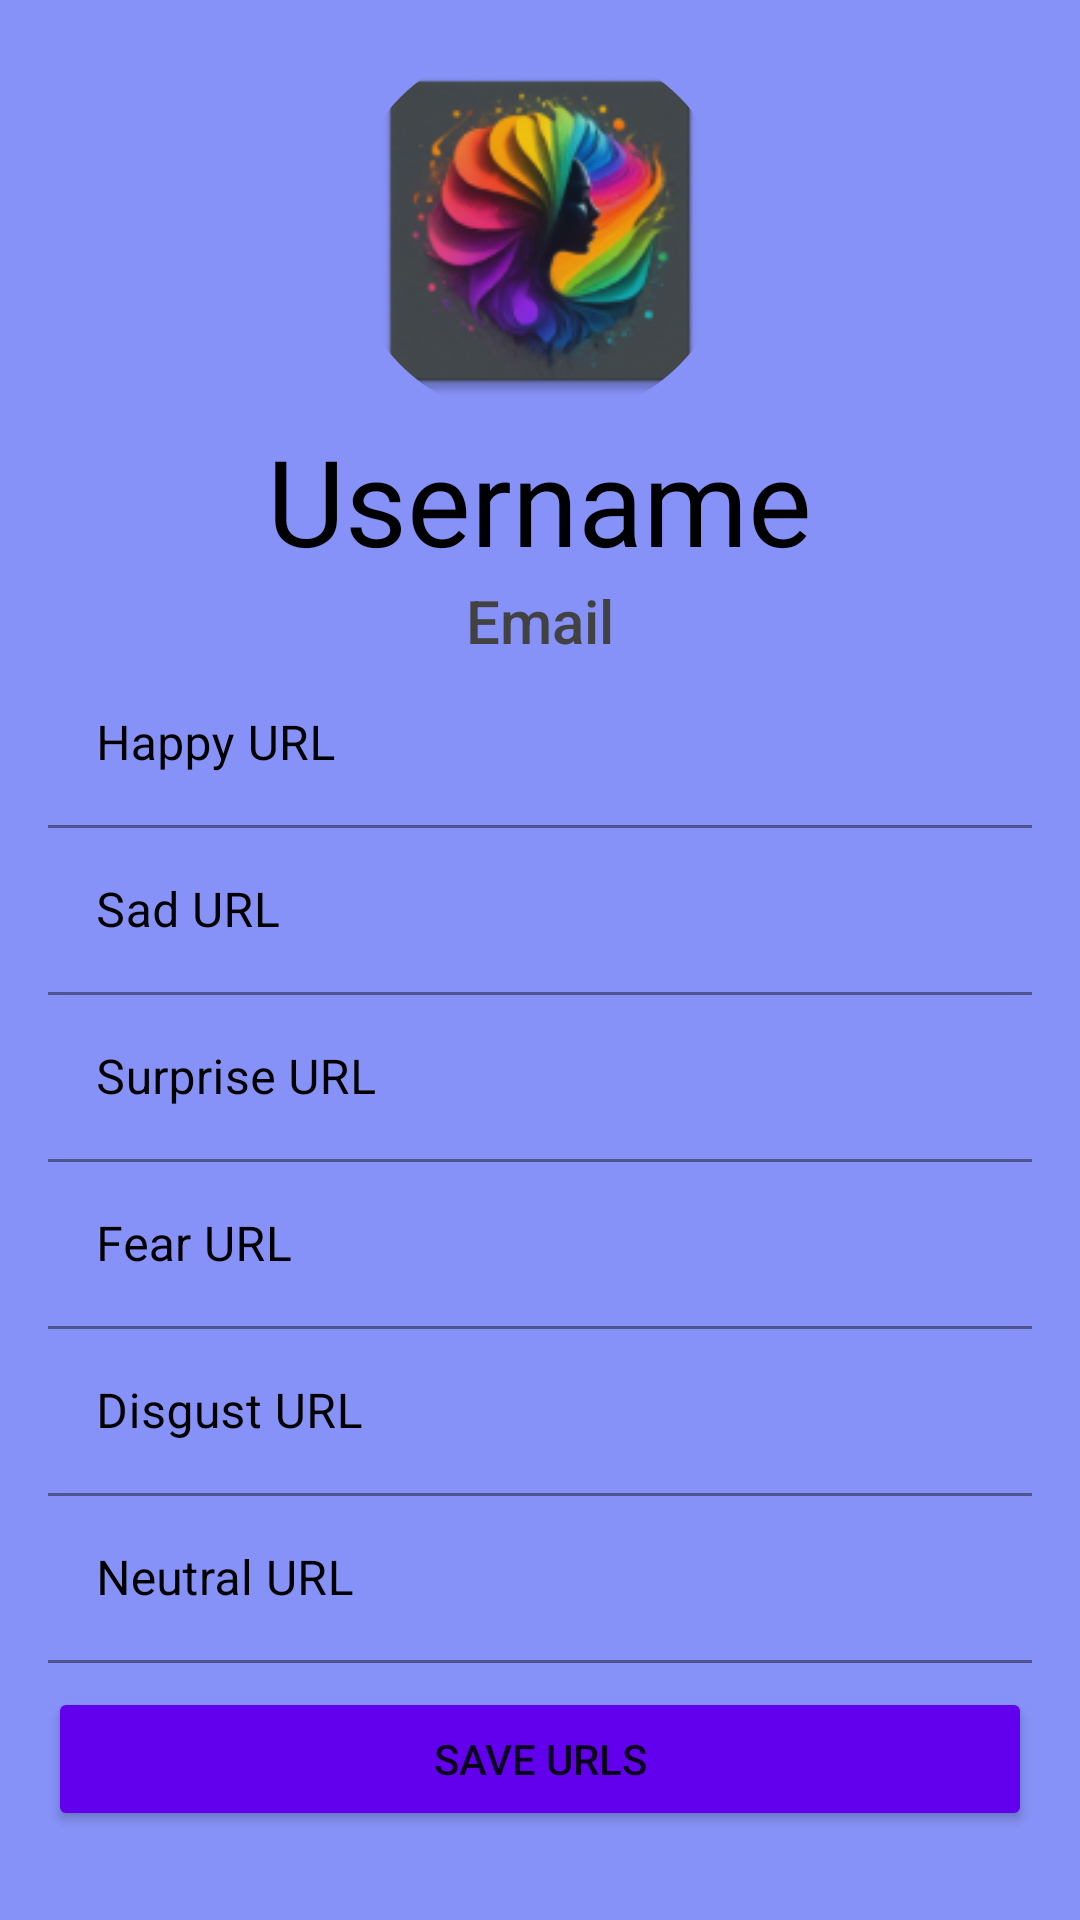

Point at icon controls on the screen. Image size 1080px x 1920px, points as (x=x, y=y).
account profile: (x=540, y=235)
